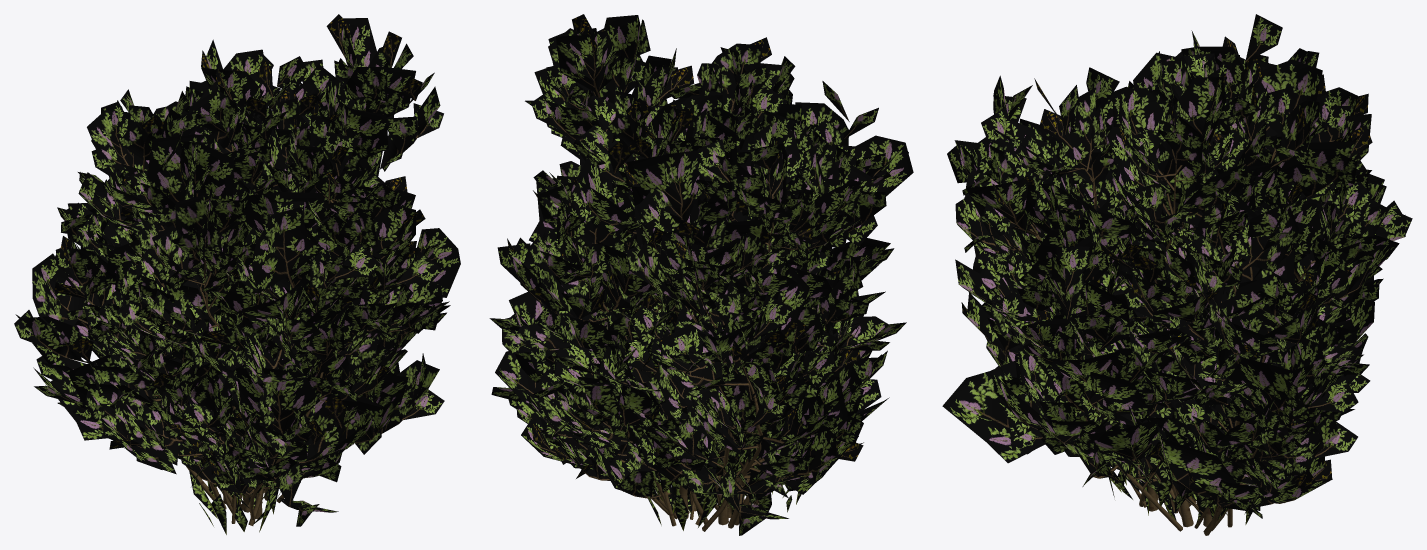
File: lilac_bush_1k.gltf
The picture shows the model from 3 angles, left to right: view 1: azimuth 30°, elevation 25°; view 2: azimuth 150°, elevation 25°; view 3: azimuth 270°, elevation 25°; orthographic projection. The views are drawn at different scales.
Visible parts, largest first — view 1: Lilac_bush_2__LOD0, Lilac_bush_1__LOD0, Lilac_bush_3__LOD0, Lilac_small_bush_1__LOD0, Lilac_small_bush_3__LOD0, Lilac_small_bush_2__LOD0; view 2: Lilac_bush_2__LOD0, Lilac_bush_1__LOD0, Lilac_bush_3__LOD0, Lilac_small_bush_1__LOD0, Lilac_small_bush_3__LOD0; view 3: Lilac_bush_2__LOD0, Lilac_bush_1__LOD0, Lilac_small_bush_1__LOD0, Lilac_bush_3__LOD0, Lilac_small_bush_3__LOD0, Lilac_small_bush_2__LOD0.
Boxes of the visible parts, <box> form: Lilac_bush_2__LOD0: <box>78,39,460,503</box>; Lilac_bush_1__LOD0: <box>14,14,449,510</box>; Lilac_bush_3__LOD0: <box>54,169,407,526</box>; Lilac_small_bush_1__LOD0: <box>86,101,416,491</box>; Lilac_small_bush_3__LOD0: <box>142,314,308,514</box>; Lilac_small_bush_2__LOD0: <box>189,471,277,534</box>; Lilac_bush_2__LOD0: <box>489,37,913,519</box>; Lilac_bush_1__LOD0: <box>525,14,881,535</box>; Lilac_bush_3__LOD0: <box>497,213,889,513</box>; Lilac_small_bush_1__LOD0: <box>507,97,906,531</box>; Lilac_small_bush_3__LOD0: <box>570,234,871,516</box>; Lilac_bush_2__LOD0: <box>947,14,1407,535</box>; Lilac_bush_1__LOD0: <box>955,51,1399,505</box>; Lilac_small_bush_1__LOD0: <box>1003,141,1356,527</box>; Lilac_bush_3__LOD0: <box>942,105,1412,511</box>; Lilac_small_bush_3__LOD0: <box>1065,292,1271,528</box>; Lilac_small_bush_2__LOD0: <box>1107,393,1166,506</box>.
Size of what is drawn, in the model's own units: 4.26 by 5.07 by 4.3.
2 materials, 2 textured.
